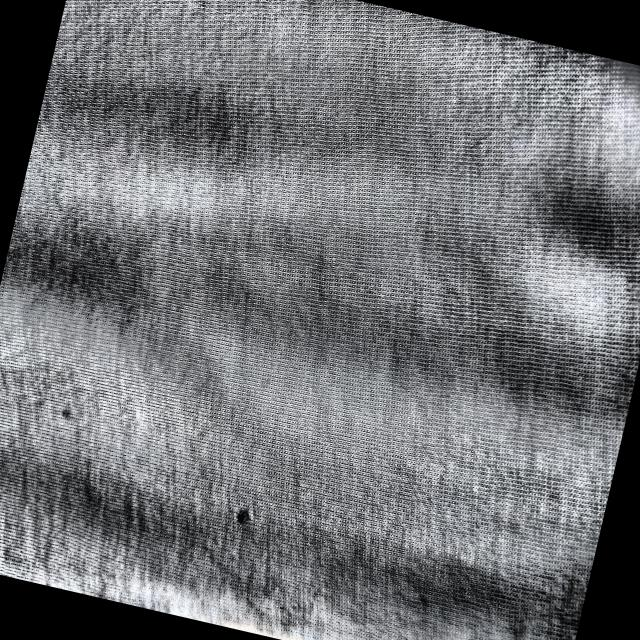cut: (220, 499, 262, 539), (52, 398, 80, 428)
